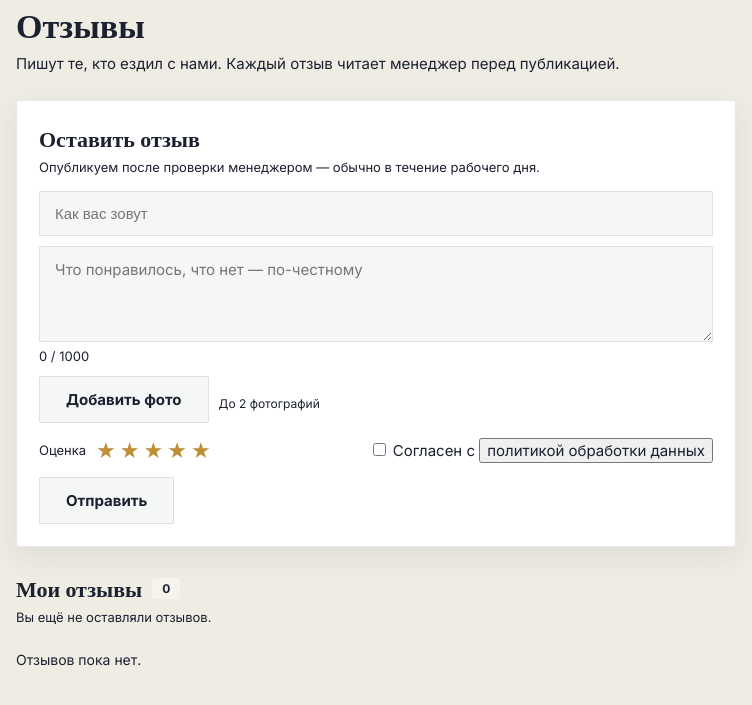
Test: Reviews › keeps the form values and exposes a retry after submit failure
Type "Анна" into the field with placeholder "Как вас зовут".
click(376, 214); type("Анна")  # box x1=39 y1=191 x2=713 y2=236
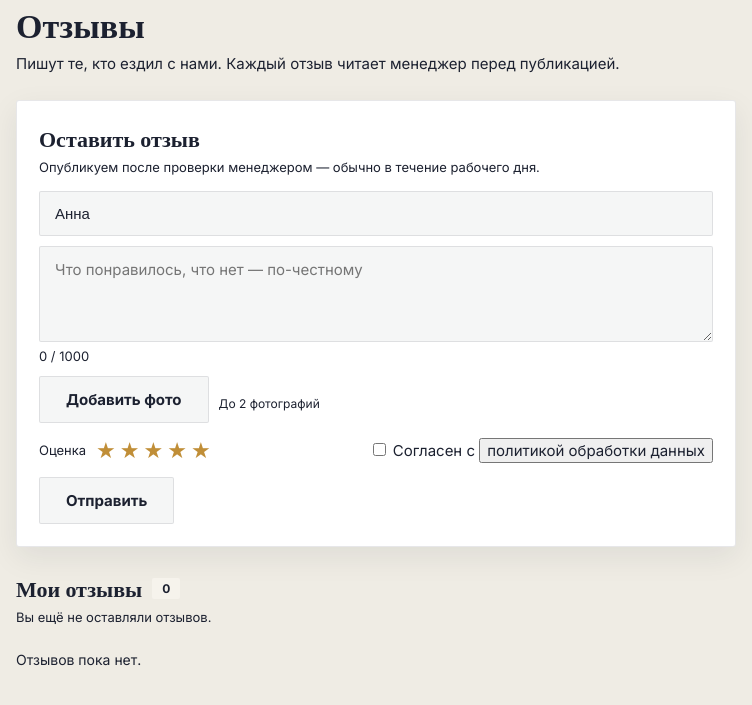
Type "Всё понравилось" into the text box with placeholder "Что понравилось, что нет — по-честному".
click(376, 294); type("Всё понравилось")  # box x1=39 y1=246 x2=713 y2=342
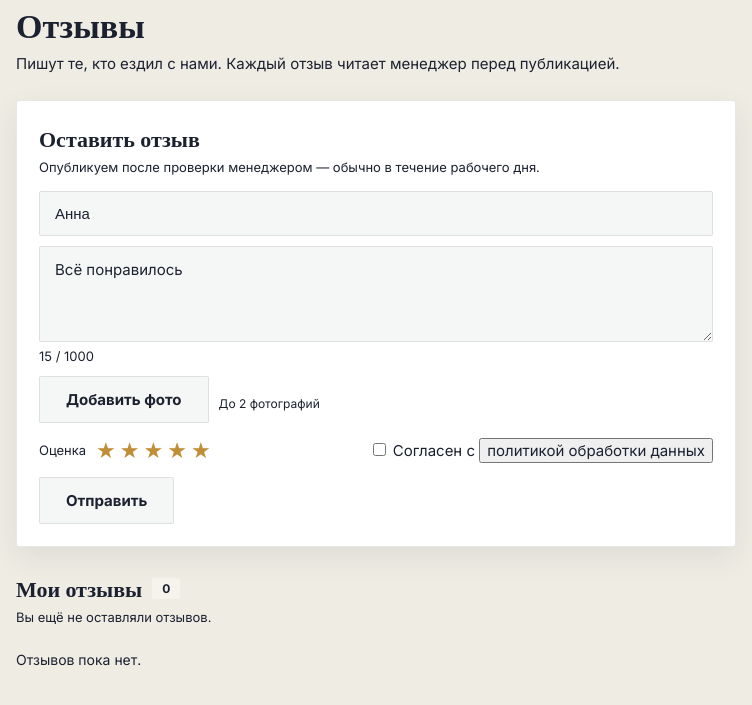
Click the checkbox.
click(379, 449)  # box x1=372 y1=443 x2=386 y2=456
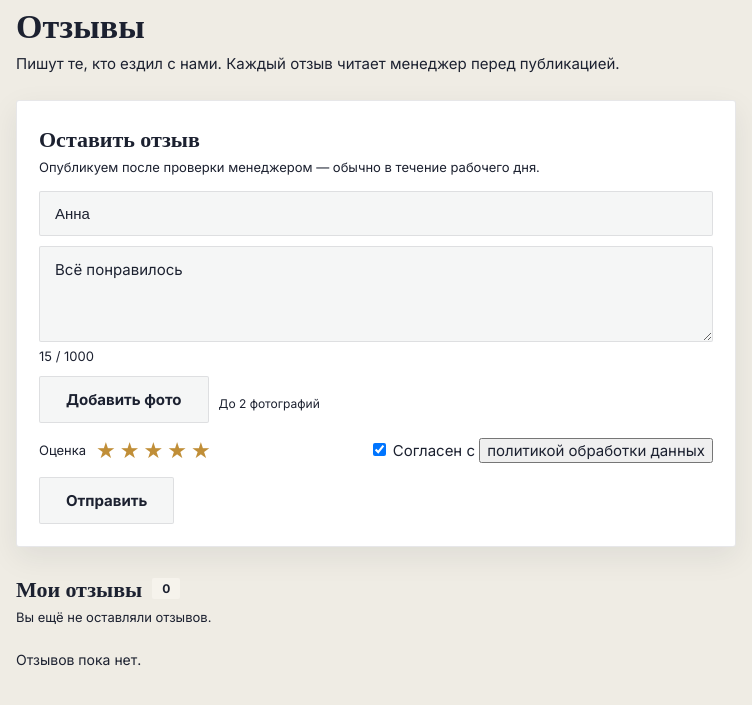
Click the button "Отправить".
click(107, 501)  # box x1=39 y1=477 x2=174 y2=524
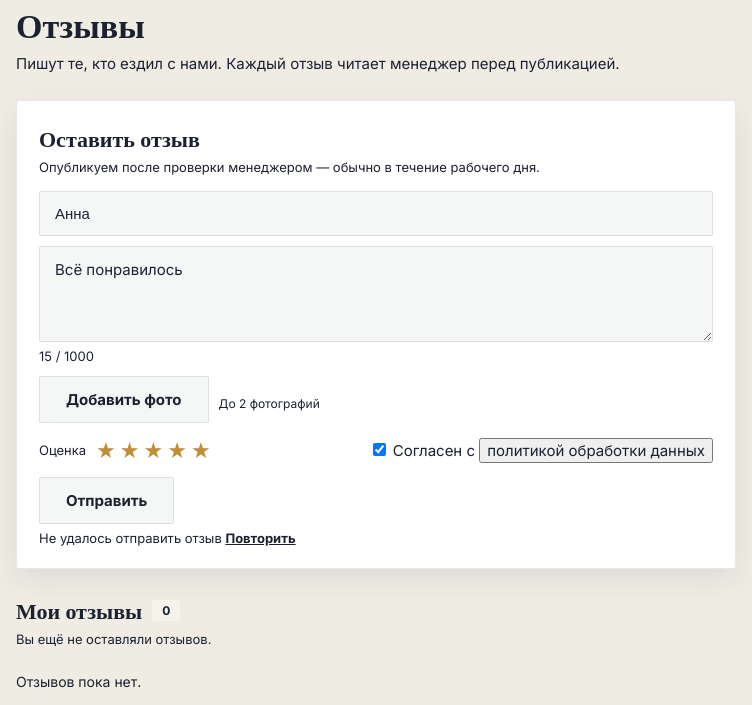
Check: the message "Не удалось отправить отзыв Повторить" is shown, box x1=39 y1=530 x2=296 y2=546
Check: the button "Повторить" is shown, box x1=225 y1=530 x2=296 y2=546
